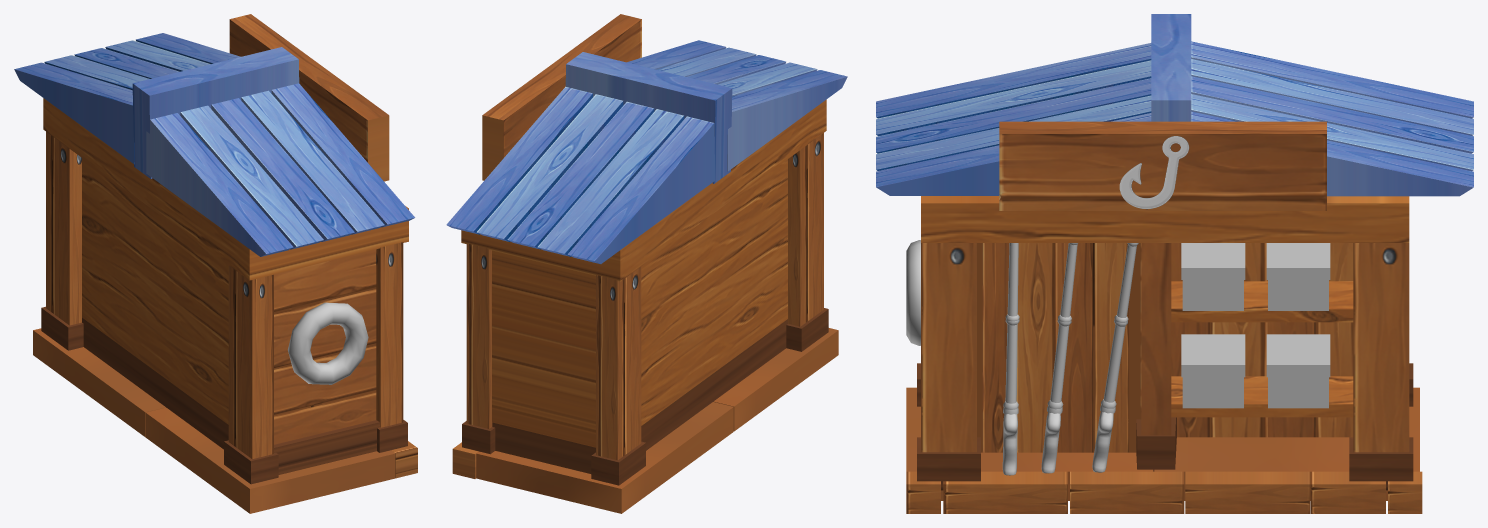
File: Upgrade Shop01.fbx
3 renders of one model, left to right at view 1: azimuth 30°, elevation 25°; view 2: azimuth 150°, elevation 25°; view 3: azimuth 270°, elevation 25°, orthographic. The views are drawn at different scales.
Visible parts, largest first — view 1: Upgrade Shop; view 2: Upgrade Shop; view 3: Upgrade Shop.
Boxes of the visible parts, x1,y1,x2,y2 form: Upgrade Shop: (14, 14, 417, 513); Upgrade Shop: (446, 14, 847, 513); Upgrade Shop: (876, 14, 1473, 513).
Size of the model in its own units: 3.28 by 5.98 by 8.01.
